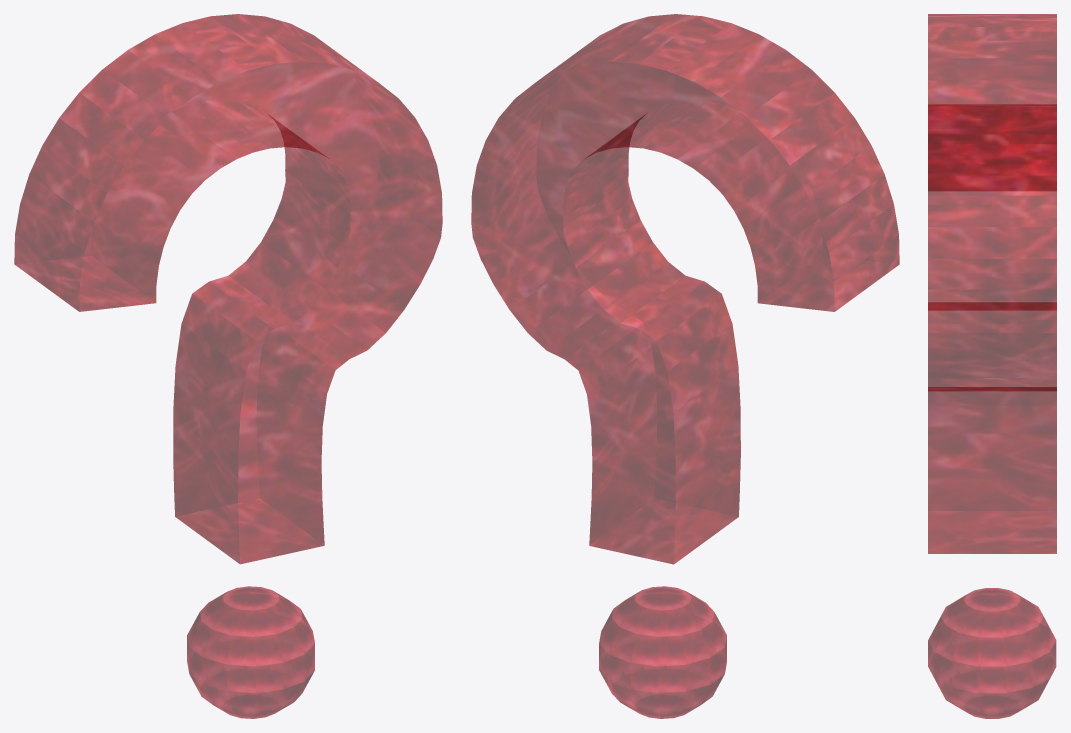
Rendered from UNAssigned.dae.
3 views of the same model, side by side, from view 1: azimuth 30°, elevation 25°; view 2: azimuth 150°, elevation 25°; view 3: azimuth 270°, elevation 25° (orthographic).
Parts seen in each view (by area): view 1: Sphere01; view 2: Sphere01; view 3: Sphere01.
Part boxes in pixels (x1,y1,x2,y2): Sphere01: (14, 14, 442, 718); Sphere01: (471, 14, 899, 718); Sphere01: (928, 14, 1056, 718).
Size of the model in its own units: 75.84 by 23.5 by 135.
Materials: 1 (1 with a texture image).
